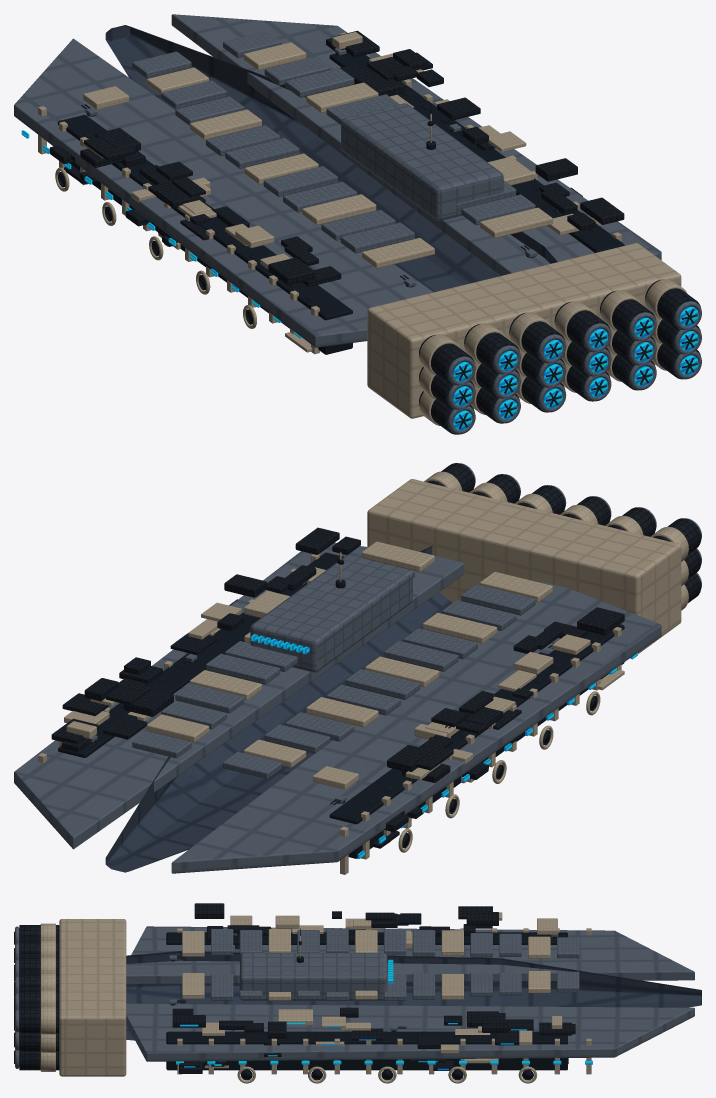
File: aur-ark-carrier.glb
3 views of the same model, one above another, from view 1: azimuth 30°, elevation 25°; view 2: azimuth 150°, elevation 25°; view 3: azimuth 270°, elevation 25° (orthographic). The views are drawn at different scales.
Parts seen in each view (by area): view 1: Launch_Deck_L, Engine_Wall, Launch_Deck_R, Central_Spine, Command_Island, Hangar_L, Hangar_R, Carrier_Dorsal_Plate_L_02, Carrier_Dorsal_Plate_L_04, Carrier_Dorsal_Plate_L_08, Carrier_Dorsal_Plate_L_06, Carrier_Dorsal_Plate_L_01 (+30 smaller); view 2: Launch_Deck_L, Engine_Wall, Launch_Deck_R, Central_Spine, Command_Island, Hangar_L, Hangar_R, Carrier_Dorsal_Plate_L_04, Carrier_Dorsal_Plate_L_02, Carrier_Dorsal_Plate_L_06, Carrier_Dorsal_Plate_R_09, Carrier_Dorsal_Plate_L_08 (+26 smaller); view 3: Launch_Deck_R, Launch_Deck_L, Engine_Wall, Central_Spine, Hangar_R, Command_Island, Hangar_L, Carrier_Engine_18, Carrier_Dorsal_Plate_L_09, Carrier_Dorsal_Plate_R_09, Carrier_Dorsal_Plate_L_02, Carrier_Dorsal_Plate_R_02 (+43 smaller).
Boxes of the visible parts, x1,y1,x2,y2 form: Launch_Deck_L: (14, 38, 433, 347); Engine_Wall: (367, 243, 681, 418); Launch_Deck_R: (171, 14, 661, 275); Central_Spine: (105, 25, 557, 292); Command_Island: (341, 103, 503, 220); Hangar_L: (58, 115, 352, 354); Hangar_R: (329, 53, 624, 252); Carrier_Dorsal_Plate_L_02: (340, 222, 414, 253); Carrier_Dorsal_Plate_L_04: (302, 194, 376, 225); Carrier_Dorsal_Plate_L_08: (225, 138, 299, 168); Carrier_Dorsal_Plate_L_06: (263, 166, 337, 196); Carrier_Dorsal_Plate_L_01: (362, 237, 434, 268); Launch_Deck_L: (171, 581, 661, 873); Engine_Wall: (367, 479, 681, 653); Launch_Deck_R: (14, 542, 464, 849); Central_Spine: (105, 546, 452, 872); Command_Island: (250, 555, 412, 672); Hangar_L: (329, 624, 624, 858); Hangar_R: (58, 552, 343, 757); Carrier_Dorsal_Plate_L_04: (422, 612, 497, 643); Carrier_Dorsal_Plate_L_02: (461, 584, 535, 615); Carrier_Dorsal_Plate_L_06: (384, 641, 458, 671); Carrier_Dorsal_Plate_R_09: (206, 653, 280, 684); Carrier_Dorsal_Plate_L_08: (346, 669, 420, 699); Launch_Deck_R: (126, 1003, 694, 1061); Launch_Deck_L: (126, 926, 694, 984); Engine_Wall: (59, 919, 126, 1076); Central_Spine: (126, 951, 701, 1040); Hangar_R: (166, 1031, 567, 1070); Command_Island: (240, 953, 387, 1000); Hangar_L: (166, 932, 567, 944); Carrier_Engine_18: (19, 1008, 59, 1033); Carrier_Dorsal_Plate_L_09: (412, 930, 435, 956); Carrier_Dorsal_Plate_R_09: (412, 973, 435, 999); Carrier_Dorsal_Plate_L_02: (211, 929, 233, 955); Carrier_Dorsal_Plate_R_02: (211, 974, 233, 1000).
Size of the model in its own units: 737 by 308 by 1644.
Materials: 6 (5 with a texture image).
